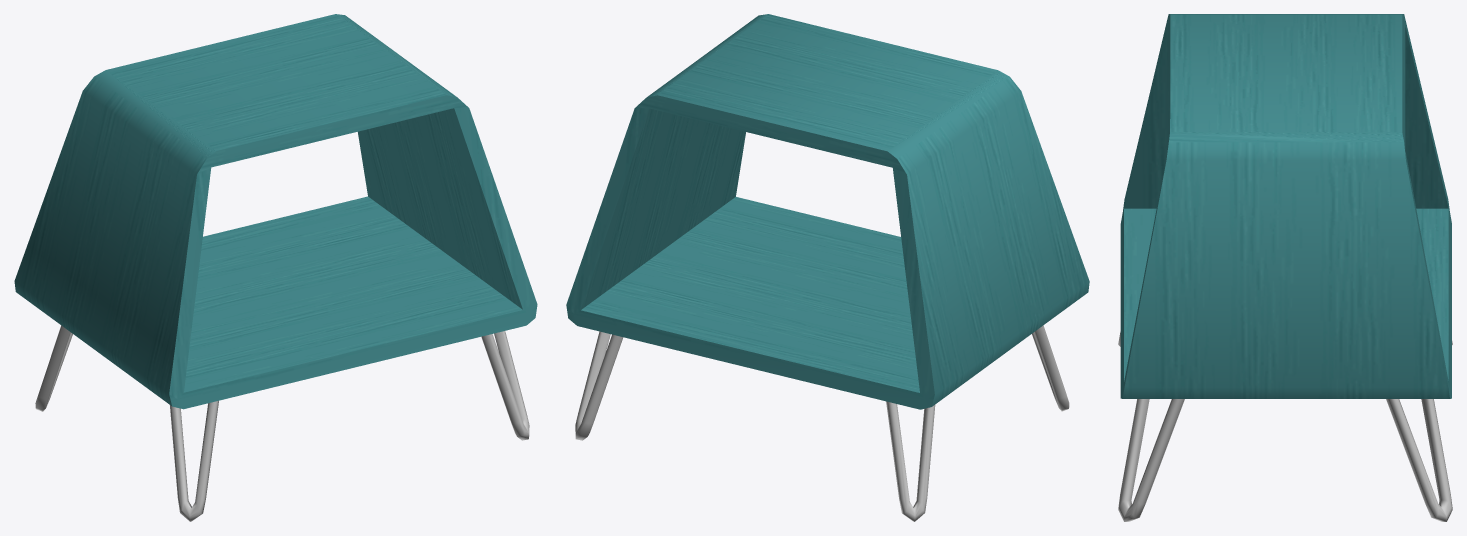
Rendered from Open_End_Table_09.FBX.
3 renders of one model, left to right at view 1: azimuth 30°, elevation 25°; view 2: azimuth 150°, elevation 25°; view 3: azimuth 270°, elevation 25°, orthographic. The views are drawn at different scales.
Visible parts, largest first — view 1: End_table; view 2: End_table; view 3: End_table.
Boxes of the visible parts, x1=… form: End_table: x1=14, y1=14, x2=537, y2=521; End_table: x1=566, y1=14, x2=1089, y2=521; End_table: x1=1118, y1=14, x2=1452, y2=521.
Size of the model in its own units: 134 by 120 by 101.
